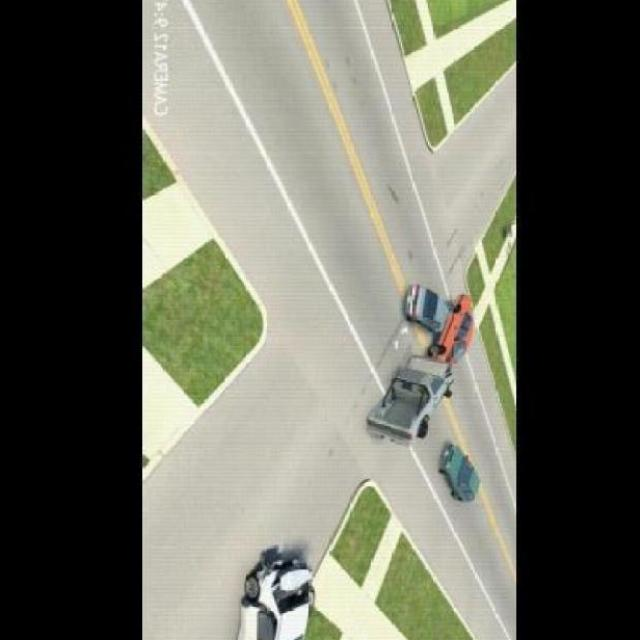accident: (356, 279, 472, 444)
